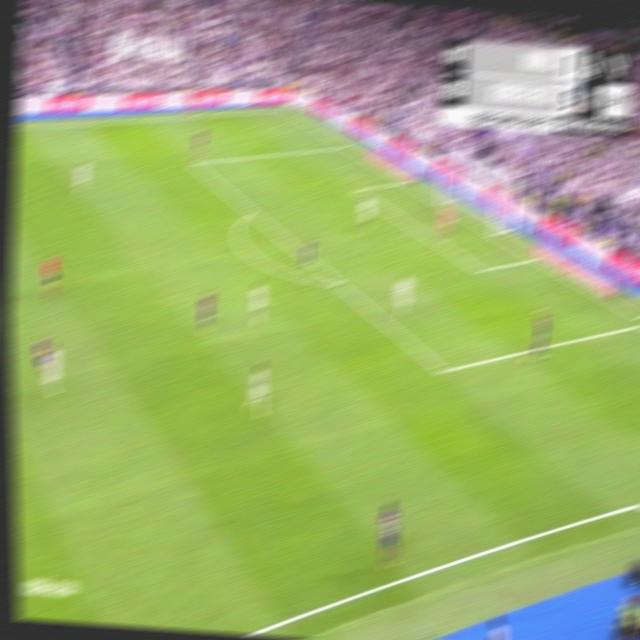bigarea_bottom_inner: (435, 359, 451, 381)
bigarea_top_inner: (187, 157, 199, 168)
bigarea_top_outter: (340, 142, 351, 148)
bottom_arc_area_intersection: (329, 274, 343, 290)
corner: (279, 106, 288, 110)
smallarea_top_inner: (352, 184, 362, 194)
top_arc_area_intersection: (245, 203, 257, 218)
